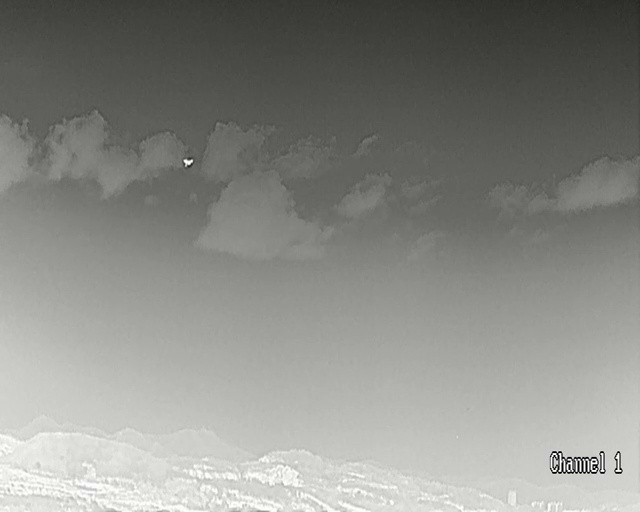uav: (183, 158, 193, 166)
